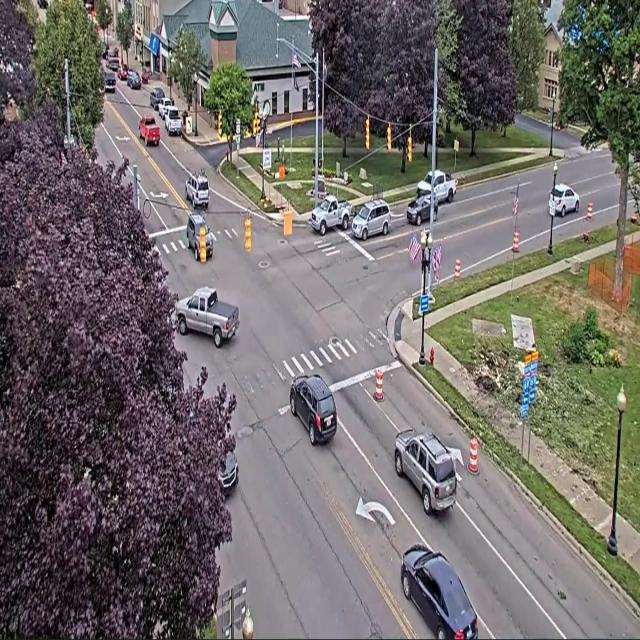car: (401, 545, 477, 639), (394, 429, 456, 514), (290, 375, 337, 446), (352, 200, 390, 240), (186, 213, 213, 261), (550, 184, 579, 216), (185, 171, 209, 208), (219, 452, 238, 496), (406, 191, 430, 225), (158, 97, 174, 119), (150, 88, 164, 111), (104, 71, 116, 93), (127, 71, 141, 89), (107, 55, 119, 72), (117, 64, 128, 80), (38, 0, 48, 9)
traffic signal: (245, 216, 251, 252), (253, 112, 259, 136), (407, 135, 412, 162), (365, 117, 369, 150), (387, 125, 391, 151), (218, 112, 222, 136)
truck: (176, 287, 239, 348), (310, 195, 352, 236), (434, 170, 456, 203), (139, 116, 160, 145), (164, 106, 181, 135)
